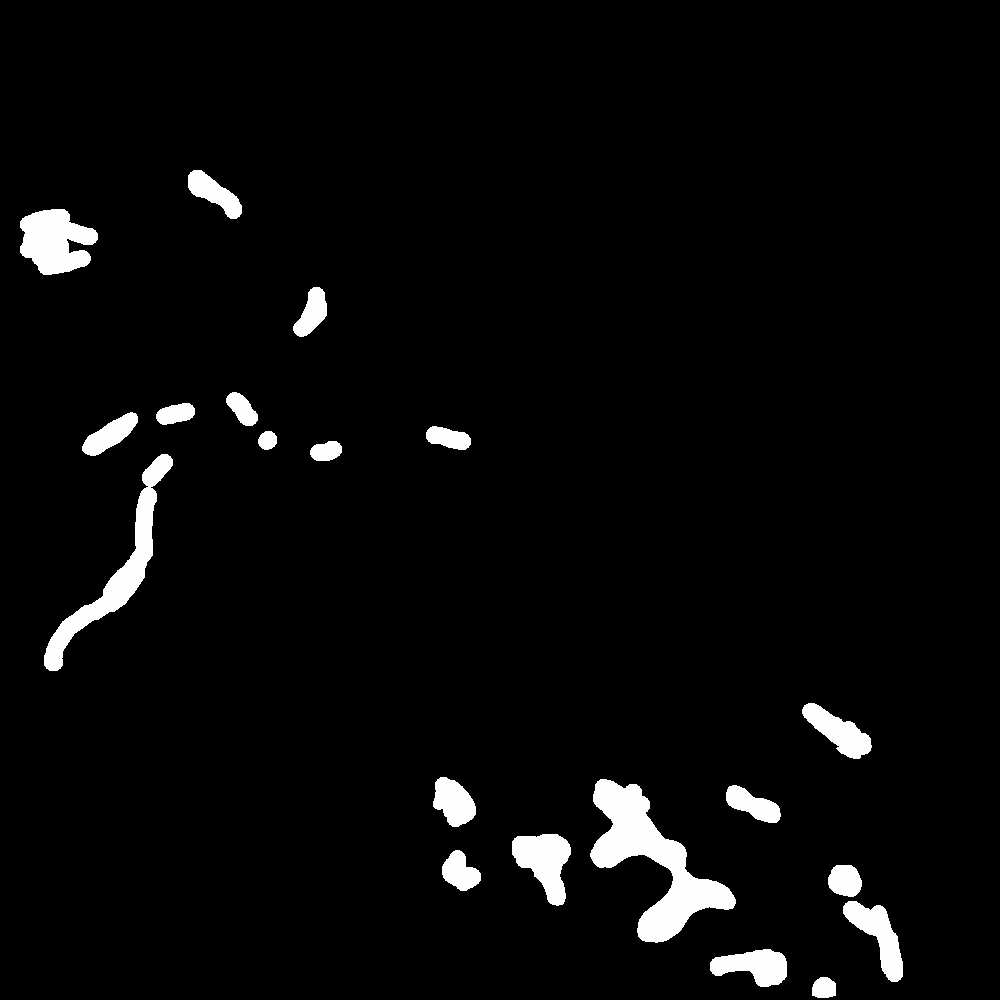illegal: (818, 713, 867, 763), (409, 421, 473, 442), (156, 162, 195, 195), (302, 292, 323, 324)
